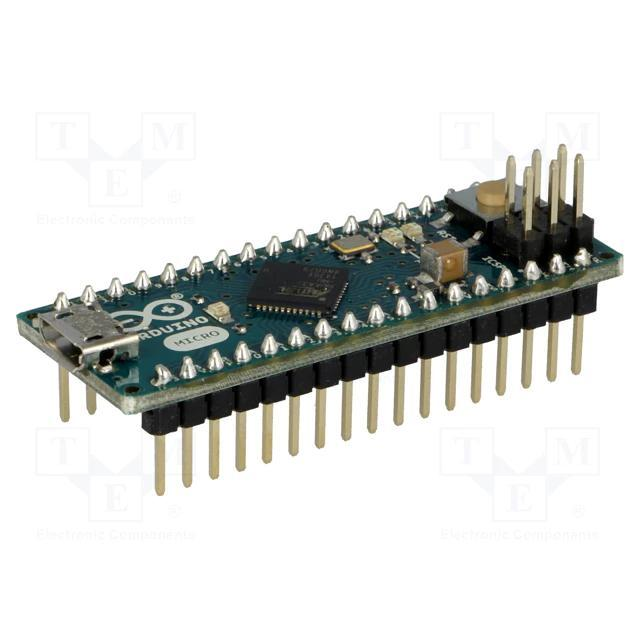Arduino-Micro: (20, 146, 624, 494)
